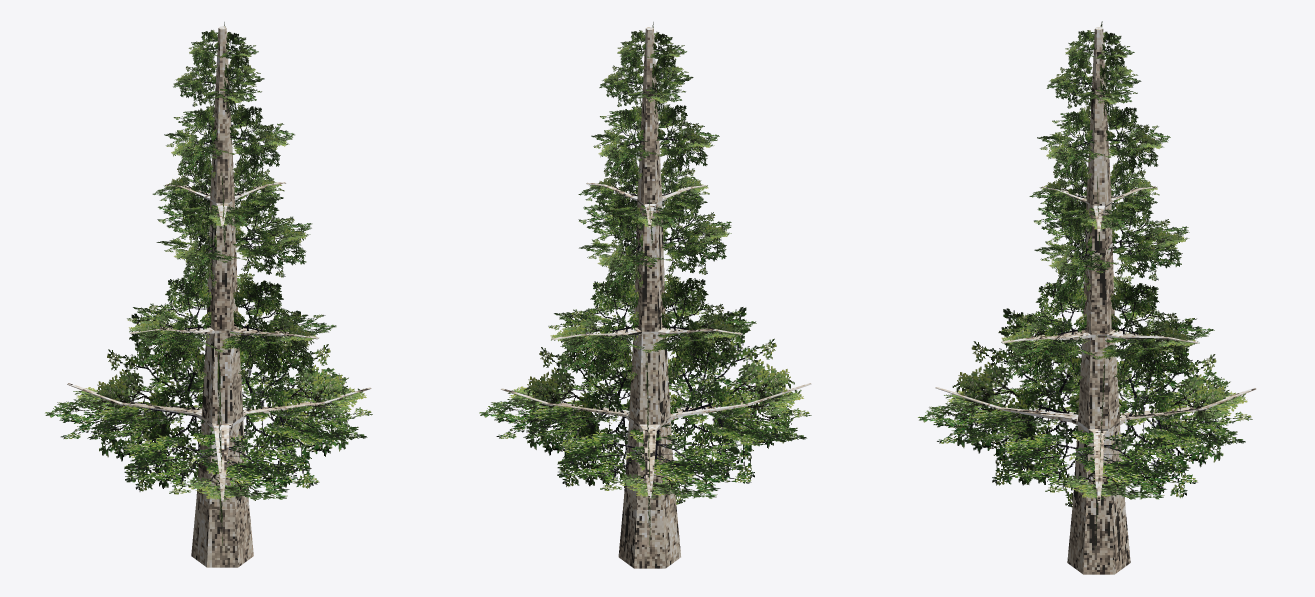
The model's file is pixel_tree_lowpoly_lightgreen.fbx.
3 renders of one model, left to right at view 1: azimuth 30°, elevation 25°; view 2: azimuth 150°, elevation 25°; view 3: azimuth 270°, elevation 25°, orthographic.
Visible parts, largest first — view 1: psx_foliage_lightgreen, psx_tree_log_white, psx_foliage_lightgreen2; view 2: psx_foliage_lightgreen, psx_tree_log_white, psx_foliage_lightgreen2; view 3: psx_foliage_lightgreen, psx_tree_log_white, psx_foliage_lightgreen2.
Boxes of the visible parts, x1,y1,x2,y2 form: psx_foliage_lightgreen: (45,22,372,545); psx_tree_log_white: (67,26,371,567); psx_foliage_lightgreen2: (50,30,370,544); psx_foliage_lightgreen: (479,22,811,547); psx_tree_log_white: (501,27,811,568); psx_foliage_lightgreen2: (481,23,808,540); psx_foliage_lightgreen: (918,21,1252,548); psx_tree_log_white: (935,27,1255,574); psx_foliage_lightgreen2: (922,30,1251,528).
Size of the model in its own units: 1128 by 1863 by 1302.
